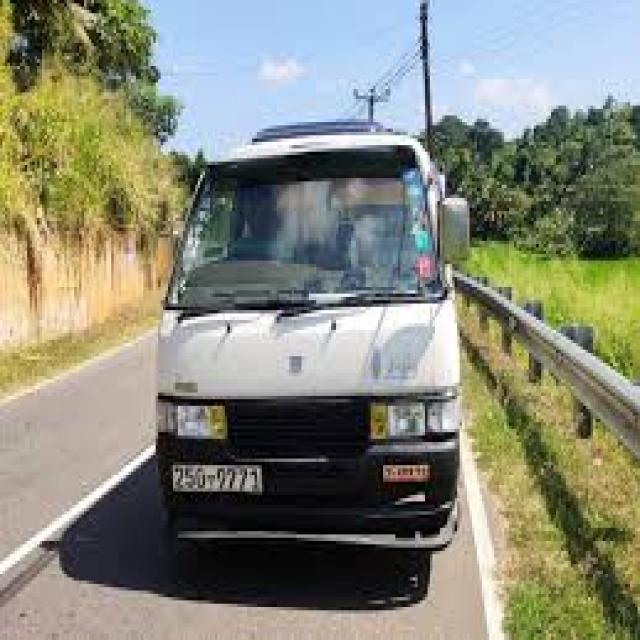van: (158, 122, 457, 551)
